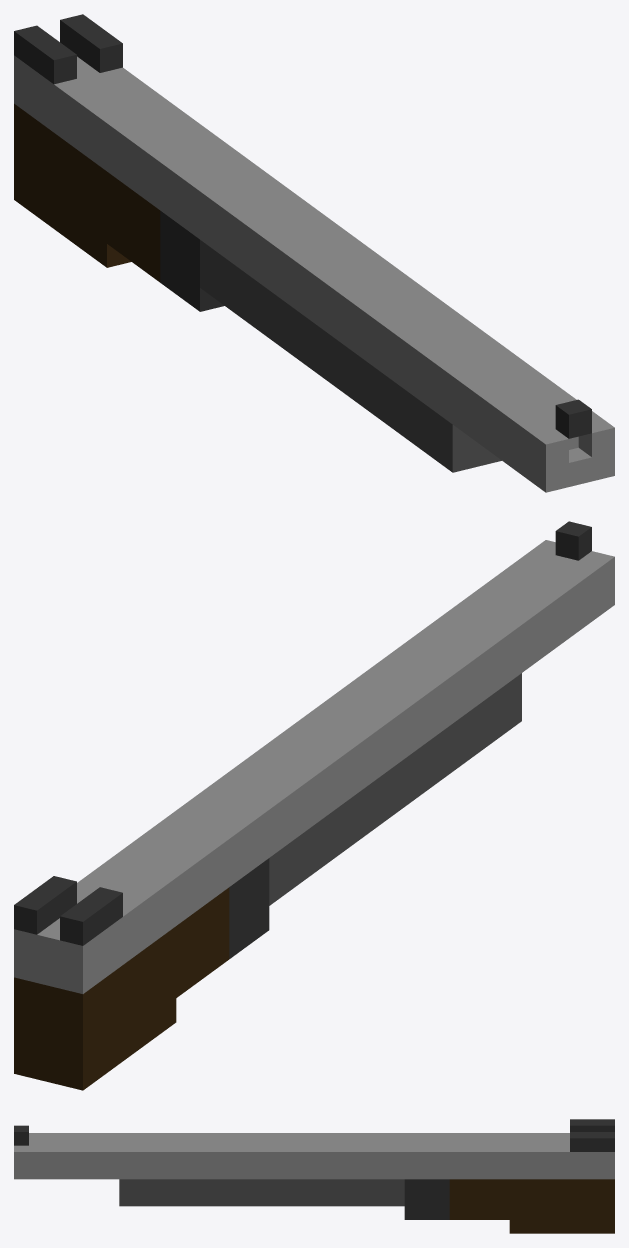
Rendered from snariad-1.obj.
3 views of the same model, one above another, from view 1: azimuth 30°, elevation 25°; view 2: azimuth 150°, elevation 25°; view 3: azimuth 270°, elevation 25° (orthographic). The views are drawn at different scales.
Bounding box in the file's own units: 0.3 × 0.7 × 4.
1 material, 1 textured.
